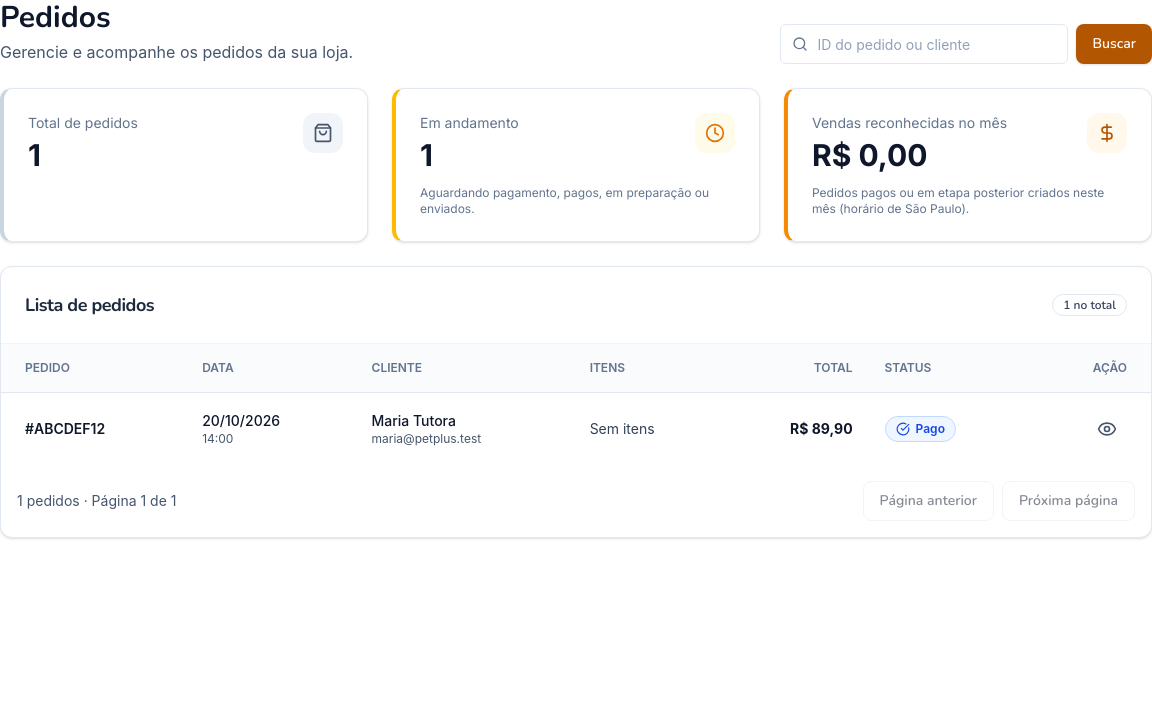
Scenario: mostra ao lojista o endereço de entrega gravado no pedido (E-05)
Click the button named "Ver detalhes do pedido #".
click(1107, 428)  # box 1087,408 -> 1127,448
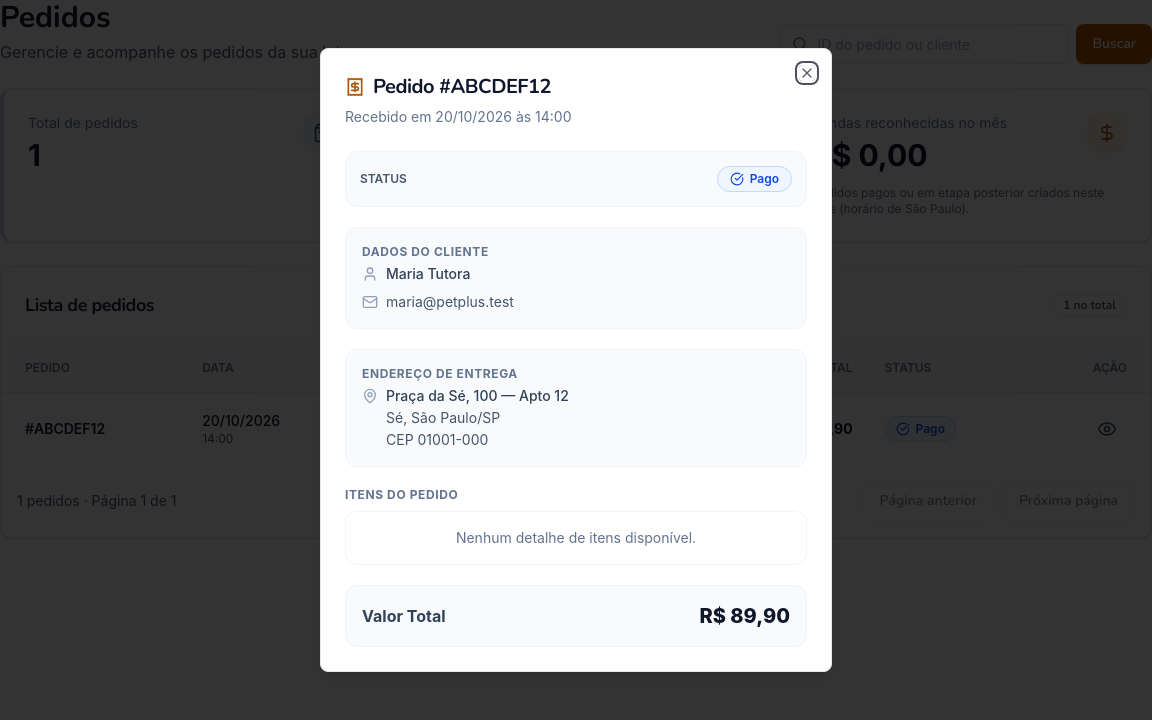
Expected: the heading "Endereço de Entrega" is shown, 362,366 -> 518,381
Expected: the text "Praça da Sé, 100 — Apto 12" is shown, 386,386 -> 569,406
Expected: the text "Sé, São Paulo/SP" is shown, 386,409 -> 500,426
